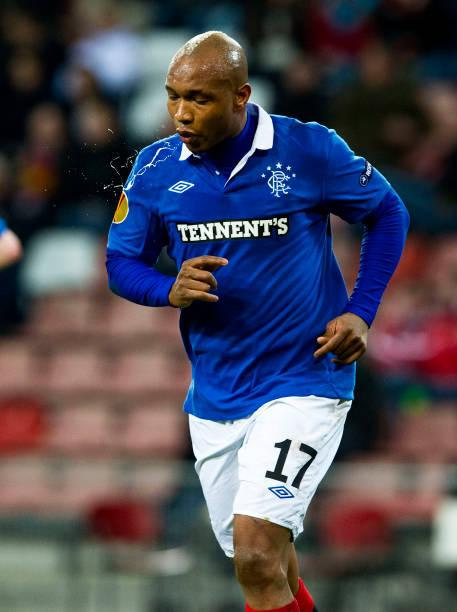Spitting: (98, 7, 256, 233)
